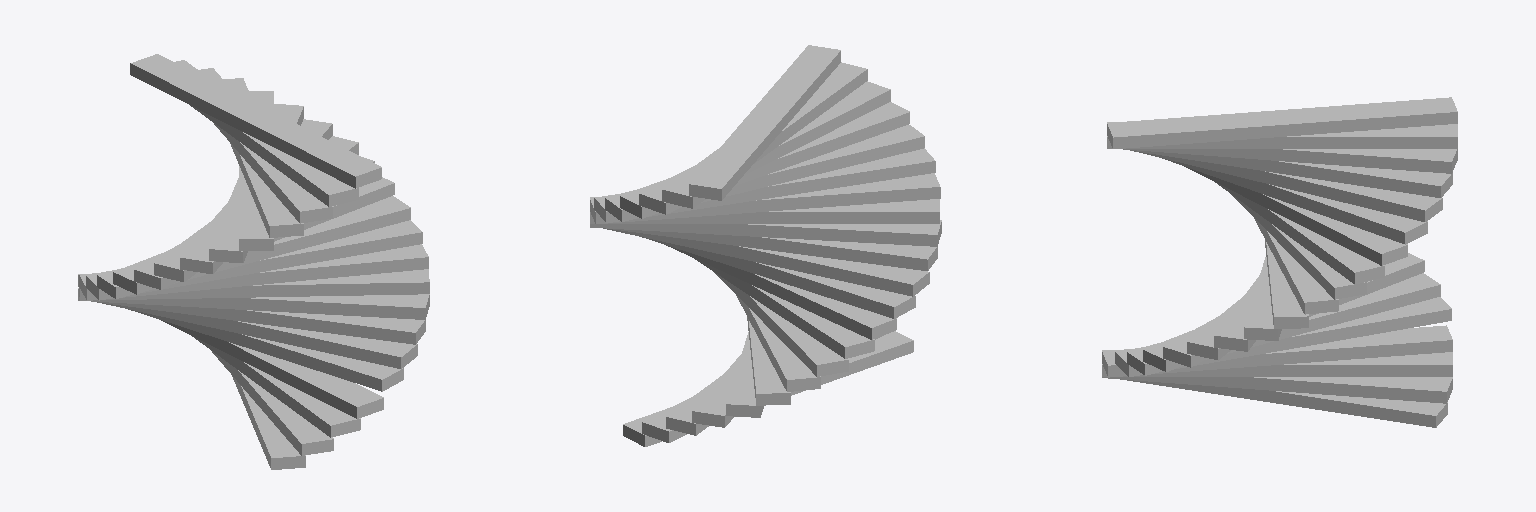
File: mid stair.obj
3 renders of one model, left to right at view 1: azimuth 30°, elevation 25°; view 2: azimuth 150°, elevation 25°; view 3: azimuth 270°, elevation 25°, orthographic.
Parts seen in each view (by area): view 1: Mesh36, Mesh8, Mesh7, Mesh14, Mesh15, Mesh13, Mesh9, Mesh27, Mesh10, Mesh6, Mesh35, Mesh26 (+10 smaller); view 2: Mesh36, Mesh12, Mesh10, Mesh29, Mesh30, Mesh31, Mesh11, Mesh34, Mesh9, Mesh33, Mesh32, Mesh14 (+10 smaller); view 3: Mesh36, Mesh27, Mesh25, Mesh35, Mesh32, Mesh26, Mesh33, Mesh34, Mesh24, Mesh6, Mesh31, Mesh7 (+10 smaller).
Part boxes in pixels (x1,y1,x2,y2): Mesh36: (130,54,381,188); Mesh8: (78,288,429,319); Mesh7: (97,302,417,368); Mesh14: (79,244,428,300); Mesh15: (78,269,429,300); Mesh13: (98,302,425,344); Mesh9: (86,220,422,300); Mesh27: (161,320,383,418); Mesh10: (97,196,410,298); Mesh6: (128,309,403,391); Mesh35: (175,60,358,206); Mesh26: (192,336,360,437); Mesh36: (689,45,840,200); Mesh12: (590,220,941,246); Mesh10: (603,228,929,296); Mesh29: (590,173,940,223); Mesh30: (590,197,939,223); Mesh31: (594,148,935,222); Mesh11: (613,229,937,270); Mesh34: (605,125,924,221); Mesh9: (642,237,915,318); Mesh33: (620,102,909,218); Mesh32: (639,81,890,214); Mesh14: (666,245,896,339); Mesh36: (1107,97,1457,148); Mesh27: (1102,325,1452,377); Mesh25: (1102,377,1452,403); Mesh35: (1107,122,1457,148); Mesh32: (1124,149,1457,173); Mesh26: (1102,350,1452,376); Mesh33: (1123,149,1452,197); Mesh34: (1134,151,1442,221); Mesh24: (1120,379,1447,427); Mesh6: (1115,297,1451,376); Mesh31: (1162,158,1427,244); Mesh7: (1127,273,1440,375).
Bounding box in the file's own units: 38.5 × 33.65 × 38.96.